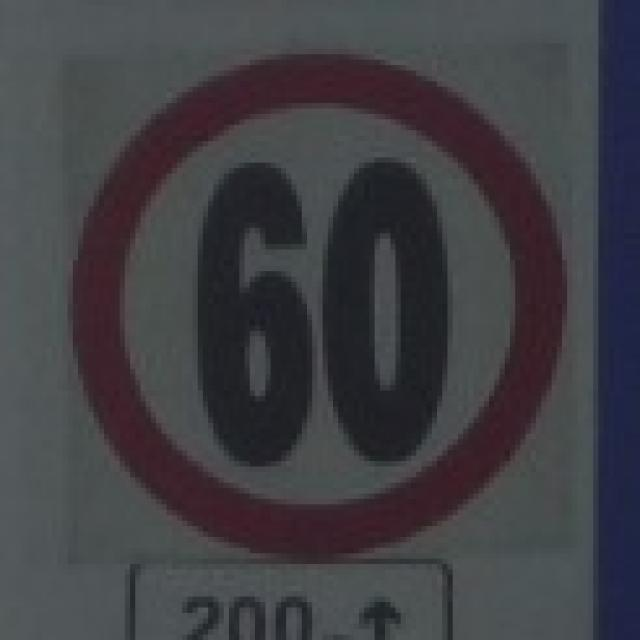Speed Limit -60-: (192, 149, 442, 479)
